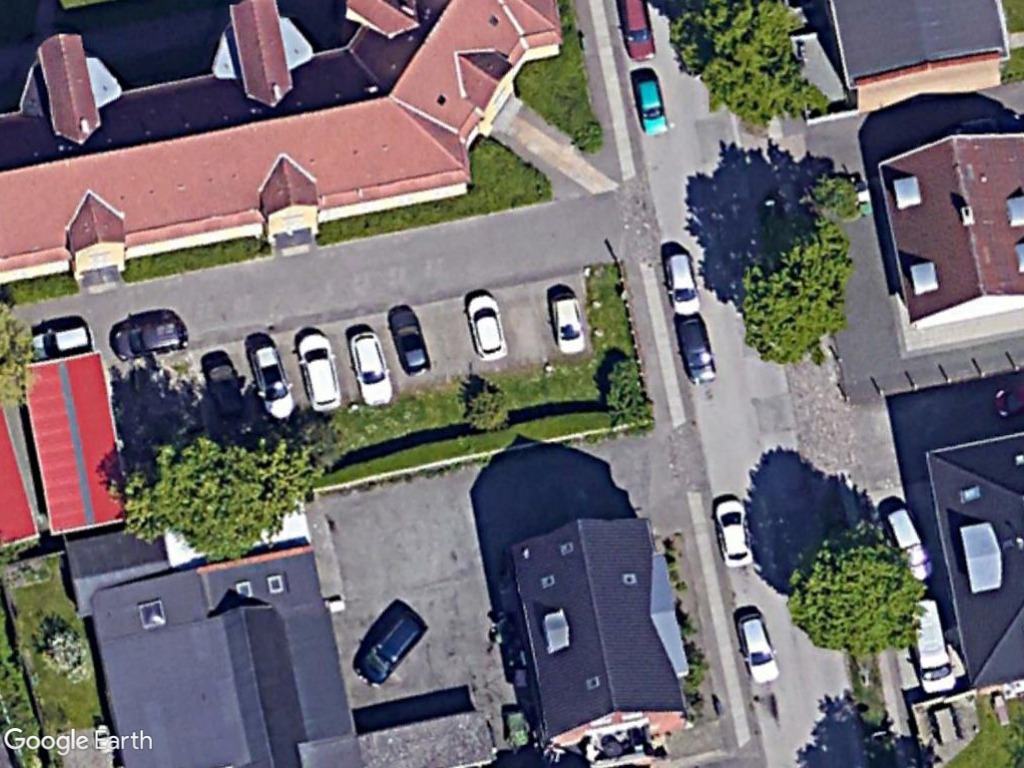car: (351, 607, 428, 690), (882, 500, 937, 584), (344, 326, 397, 411), (109, 311, 193, 364), (245, 338, 297, 423), (297, 329, 346, 416), (463, 288, 514, 367), (735, 606, 783, 687), (386, 304, 433, 380), (713, 495, 757, 572), (547, 288, 593, 361), (673, 313, 717, 387), (663, 245, 704, 319), (630, 75, 671, 140)
van: (905, 593, 959, 697)
